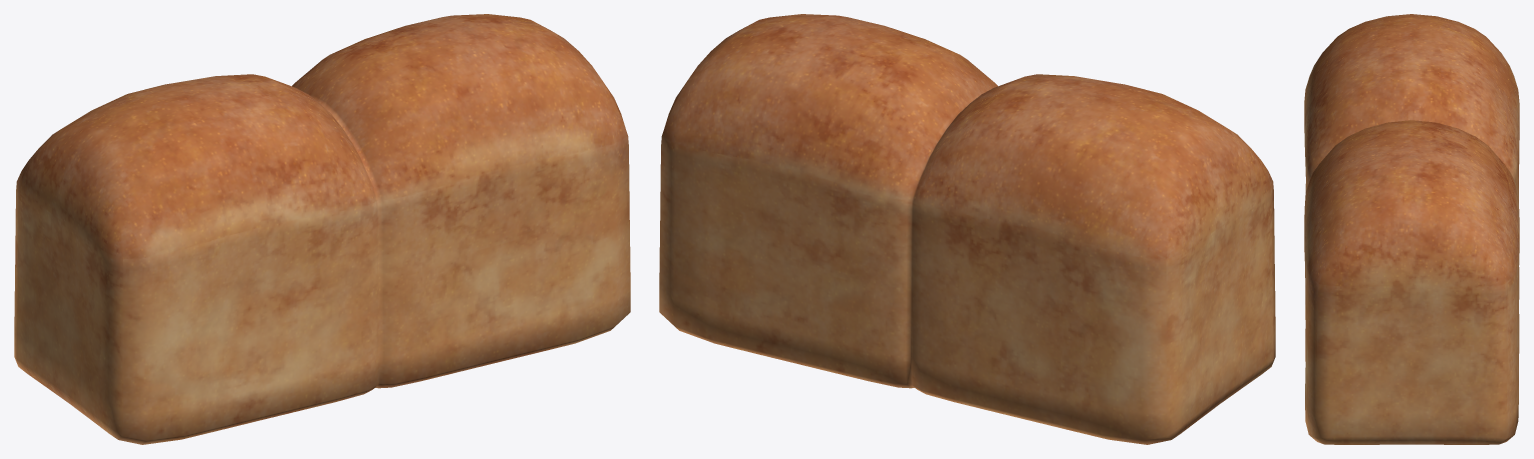
Rendered from Bread_C.fbx.
The picture shows the model from 3 angles, left to right: view 1: azimuth 30°, elevation 25°; view 2: azimuth 150°, elevation 25°; view 3: azimuth 270°, elevation 25°; orthographic projection. The views are drawn at different scales.
Parts seen in each view (by area): view 1: Bread_C; view 2: Bread_C; view 3: Bread_C.
Part boxes in pixels (x1=…): Bread_C: x1=14, y1=14, x2=630, y2=444; Bread_C: x1=659, y1=14, x2=1275, y2=444; Bread_C: x1=1304, y1=14, x2=1519, y2=444.
Bounding box in the file's own units: 0.6747 × 0.3568 × 0.2771.
